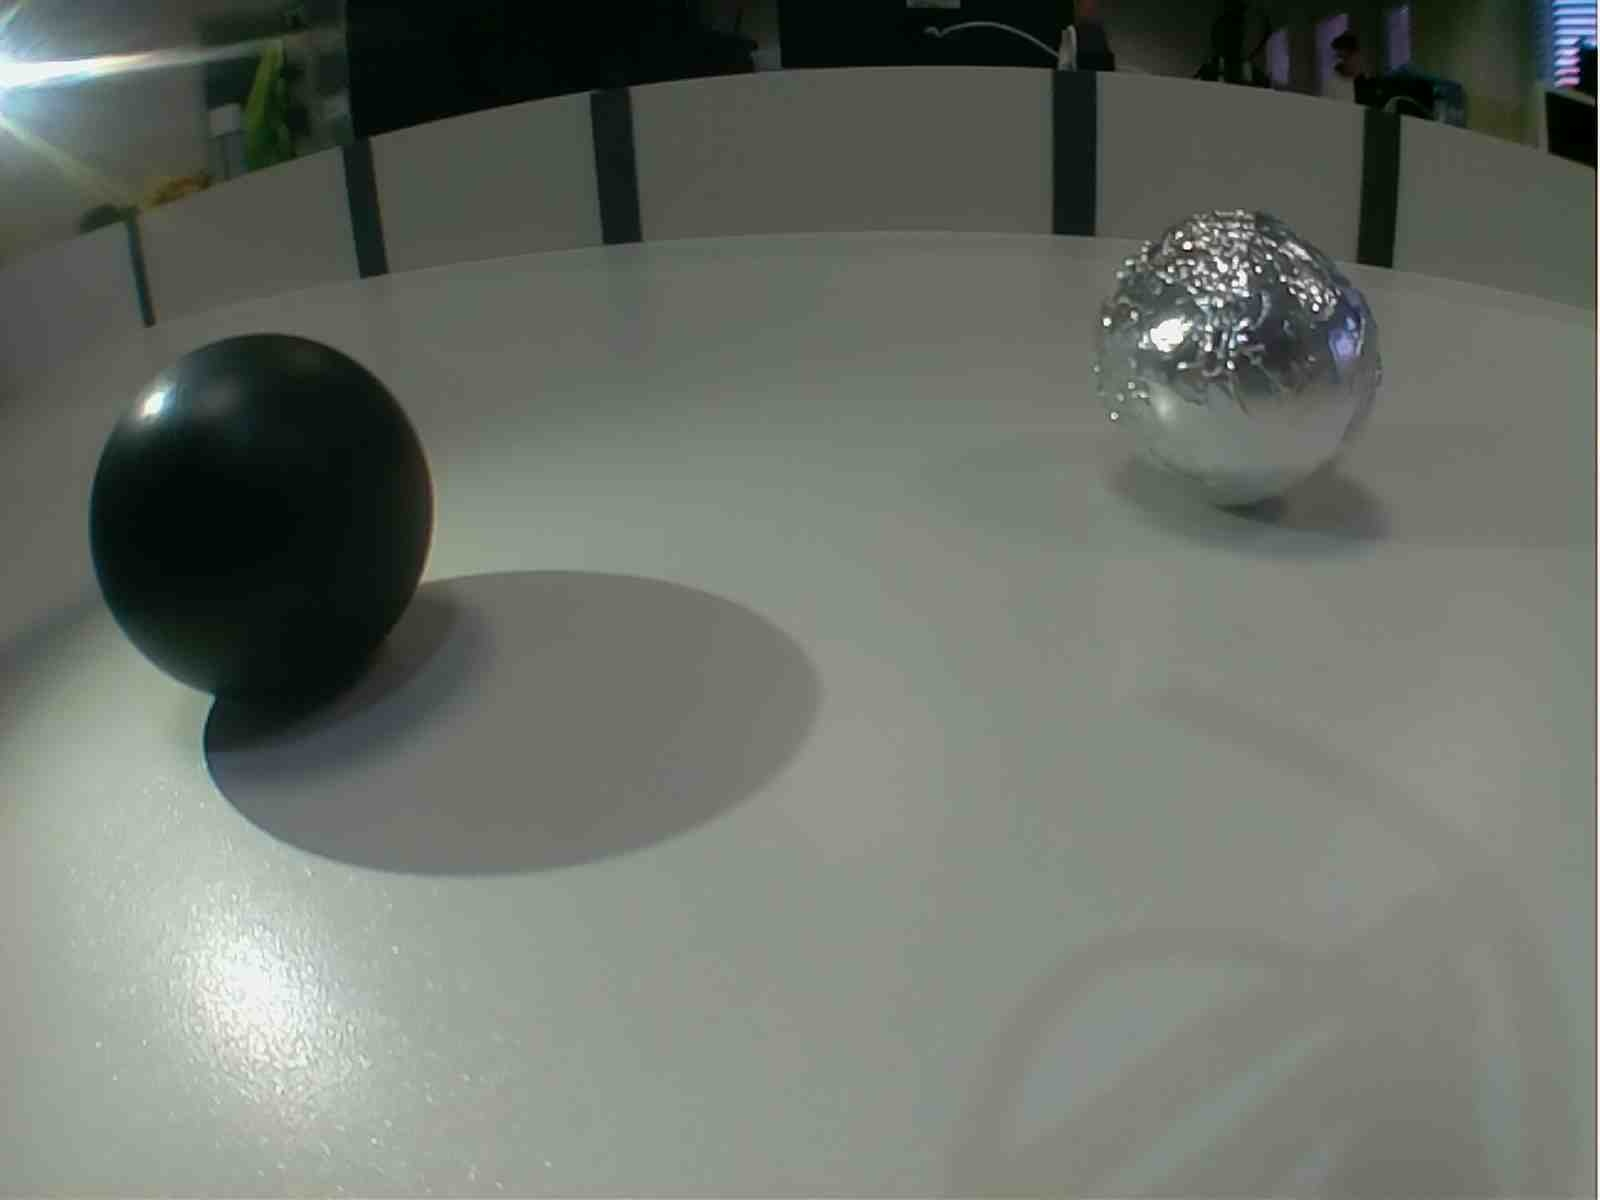bianca: (1094, 202, 1386, 519)
nera: (81, 324, 437, 711)
